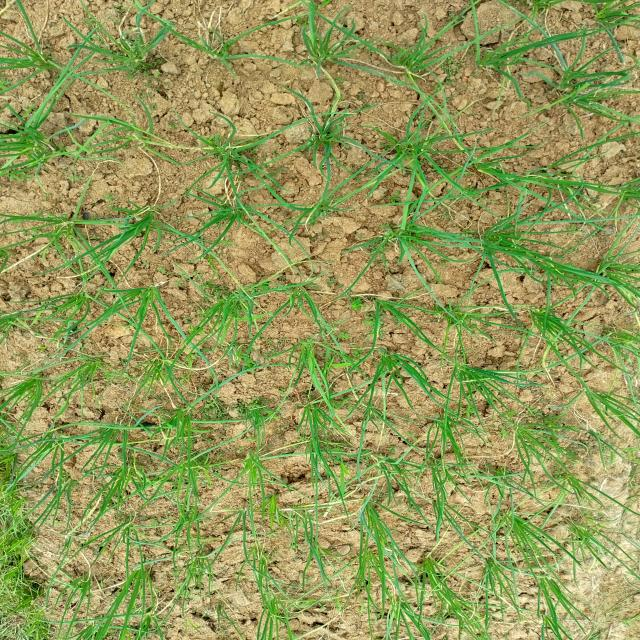Spring Onion: (456, 198, 543, 280), (517, 296, 590, 358), (181, 20, 255, 78), (566, 250, 635, 304), (199, 187, 267, 238), (359, 346, 433, 392), (112, 199, 179, 248), (333, 276, 408, 319), (494, 505, 567, 549), (360, 121, 430, 166), (114, 113, 178, 162), (402, 538, 458, 594), (10, 114, 58, 178), (31, 202, 95, 250), (569, 376, 631, 424), (138, 347, 203, 392), (298, 14, 356, 64), (504, 408, 566, 454), (424, 291, 489, 334), (458, 143, 523, 186), (31, 416, 88, 464), (256, 539, 316, 582), (558, 61, 608, 112), (324, 419, 391, 457), (110, 276, 178, 313), (391, 210, 453, 250), (5, 358, 56, 406), (157, 443, 216, 484), (44, 287, 113, 322), (206, 284, 254, 334), (385, 42, 448, 80), (116, 557, 170, 601), (270, 269, 327, 308), (290, 124, 356, 157), (206, 134, 257, 174), (464, 38, 520, 74), (441, 416, 498, 451), (105, 34, 157, 72), (353, 482, 399, 524), (298, 186, 337, 234), (280, 331, 330, 367), (230, 394, 277, 432), (82, 609, 139, 640), (100, 412, 139, 456), (104, 504, 142, 546), (74, 349, 110, 390), (454, 362, 496, 397), (565, 211, 616, 239), (68, 565, 105, 603), (578, 6, 628, 34), (99, 462, 145, 492), (12, 40, 49, 77), (162, 411, 212, 436), (0, 299, 33, 335), (608, 172, 640, 209), (170, 500, 210, 529), (239, 450, 272, 485), (184, 542, 212, 580)
